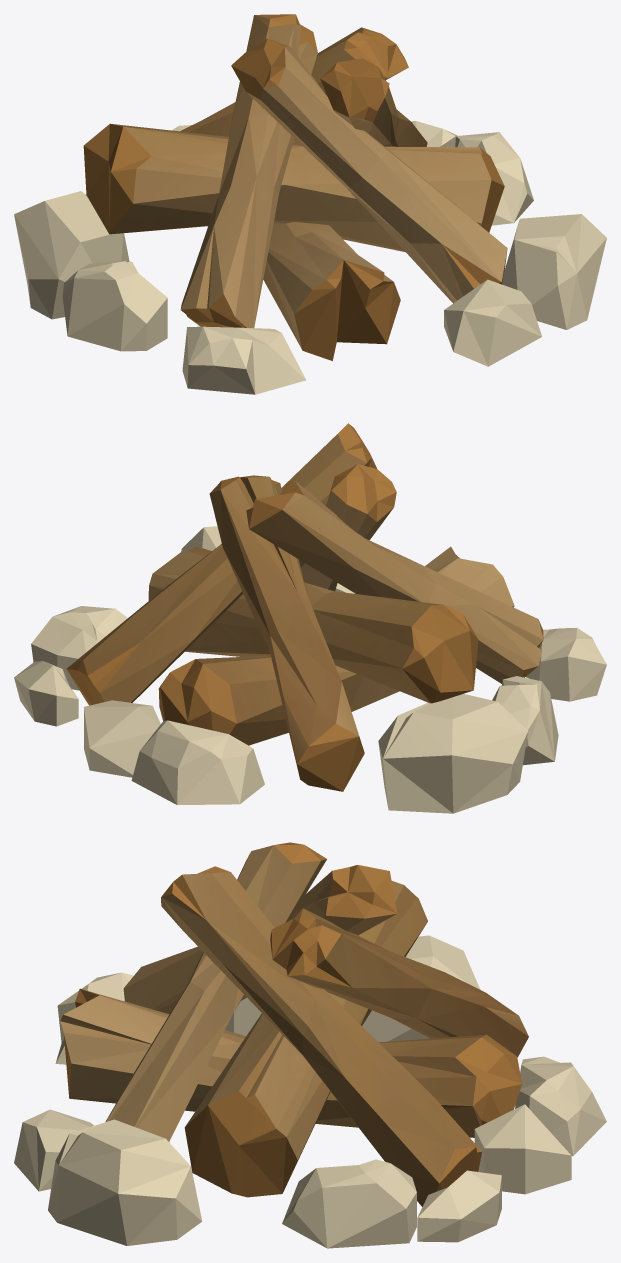
File: HealFire.fbx
3 renders of one model, top to bottom at view 1: azimuth 30°, elevation 25°; view 2: azimuth 150°, elevation 25°; view 3: azimuth 270°, elevation 25°, orthographic. The views are drawn at different scales.
Parts seen in each view (by area): view 1: prop_bonfire_301; view 2: prop_bonfire_301; view 3: prop_bonfire_301.
Boxes of the visible parts, x1,y1,x2,y2 form: prop_bonfire_301: (14, 14, 606, 394); prop_bonfire_301: (14, 423, 606, 813); prop_bonfire_301: (14, 842, 606, 1248).
Size of the model in its own units: 1.27 by 0.6394 by 1.25.
